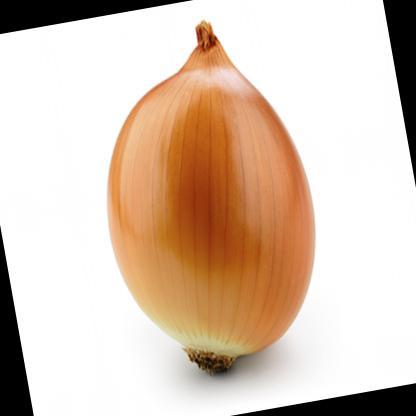onion: (76, 0, 364, 408)
